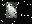person: (7, 3, 18, 19)
